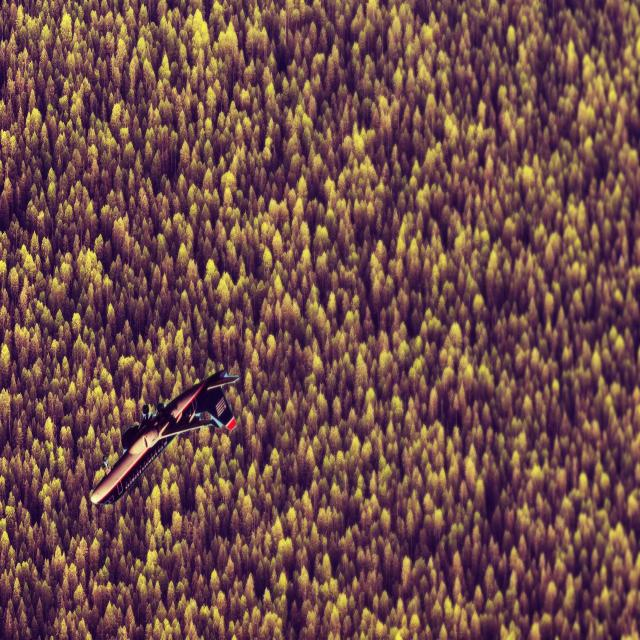airplane: (89, 367, 240, 507)
